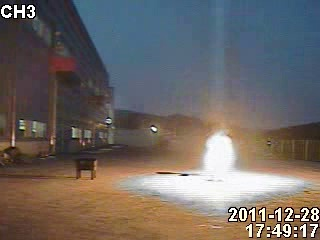fire: (195, 124, 240, 177)
